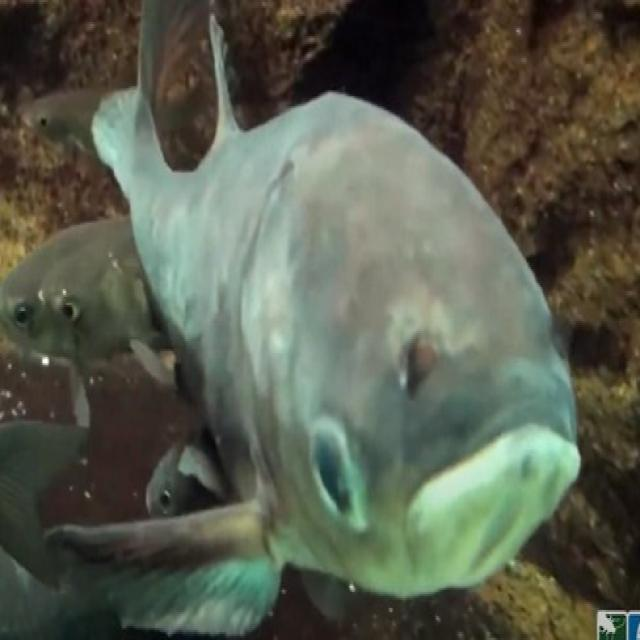Big-Head-Carp: (92, 0, 603, 600)
